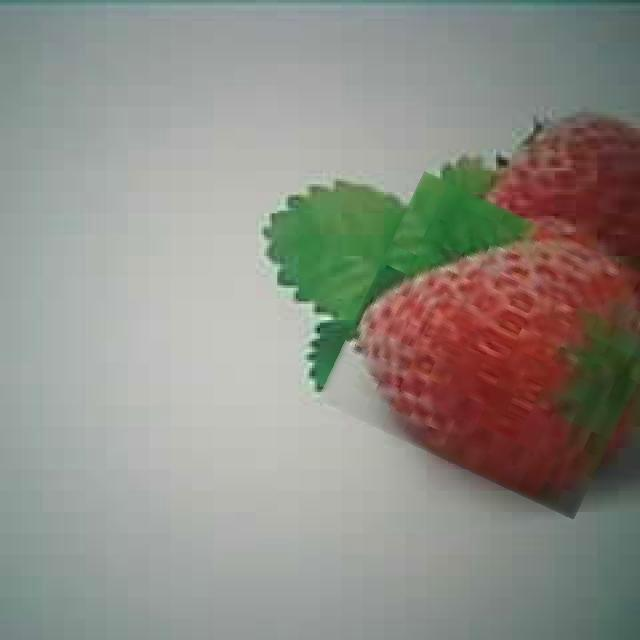strawberry: (337, 195, 640, 495)
